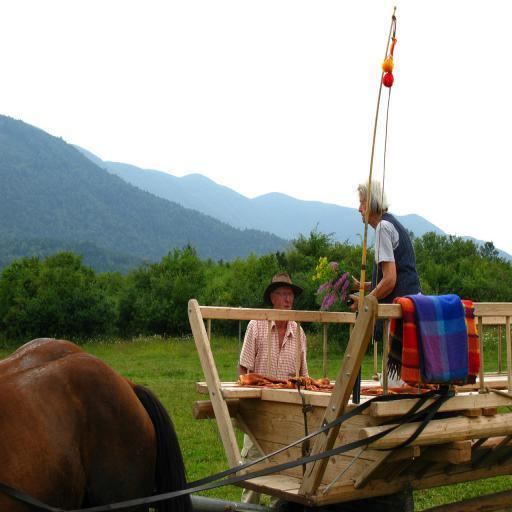horse: (0, 336, 196, 512)
